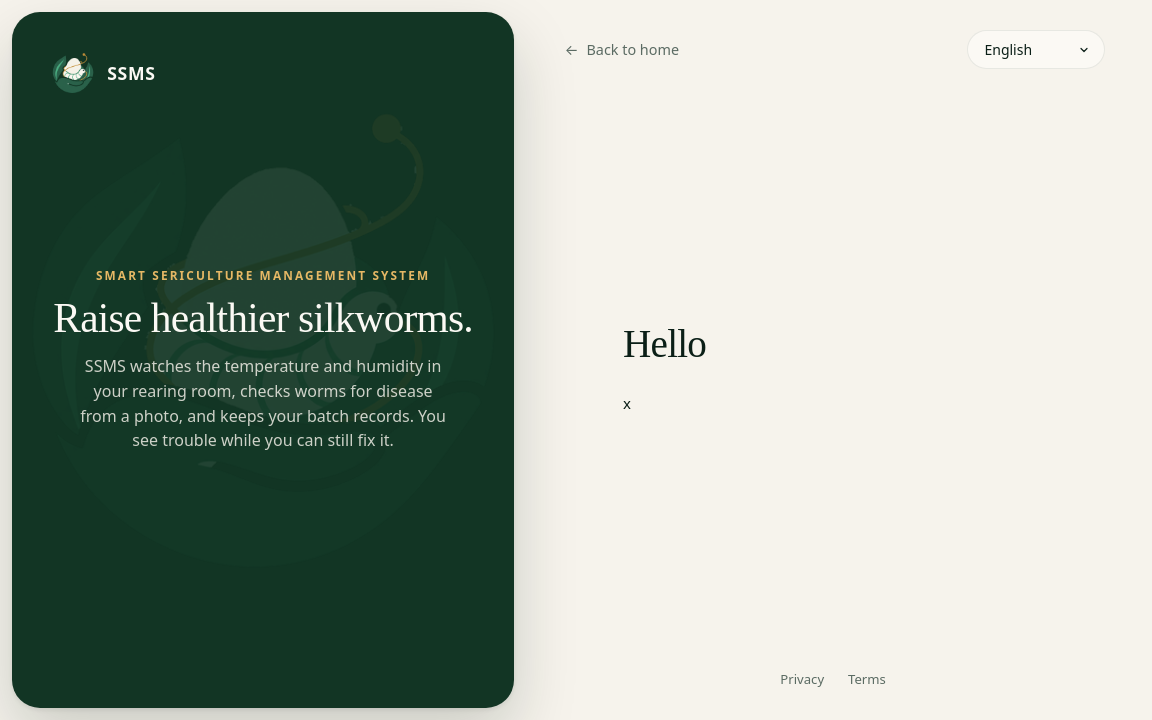
Scenario: AuthShell › links back home, to the legal pages, and switches language
Select "Français" in the dropdown named "Language" at (1036, 50), box left=968, top=30, right=1106, bottom=69
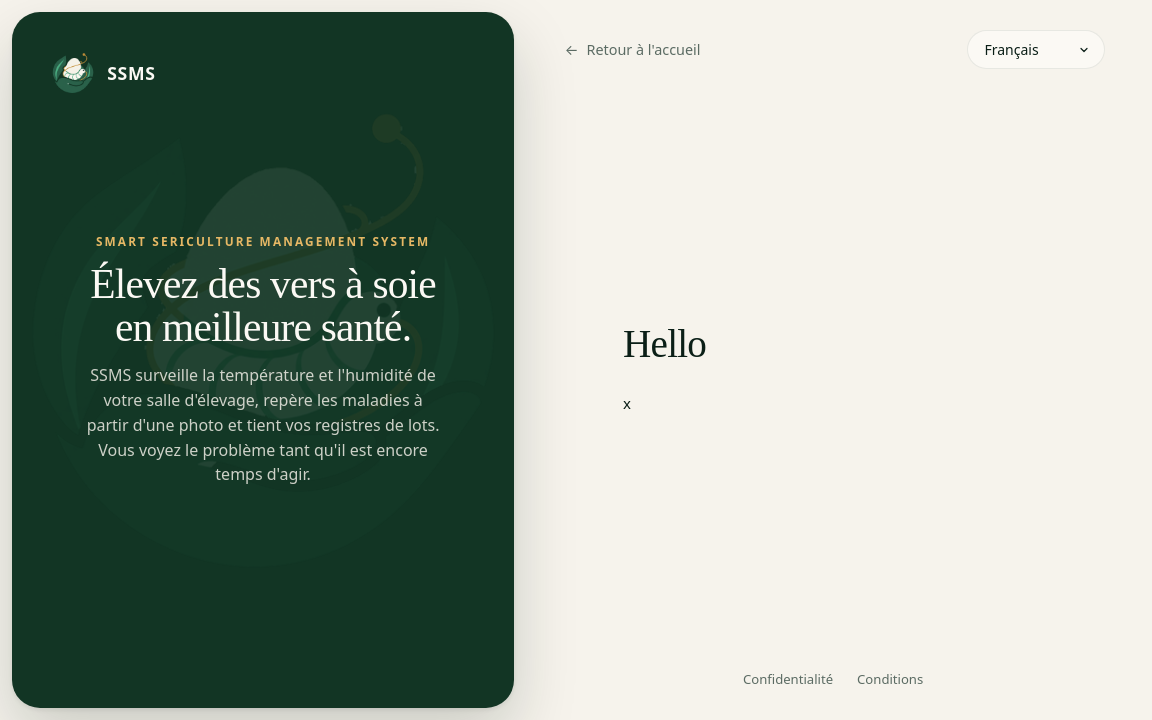
Result: the link "← Retour à l'accueil" is shown at left=565, top=40, right=700, bottom=59
